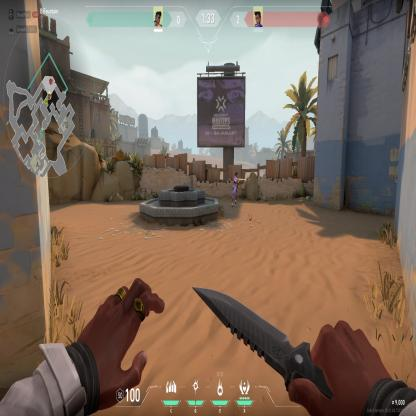enemy: (230, 171, 240, 208)
